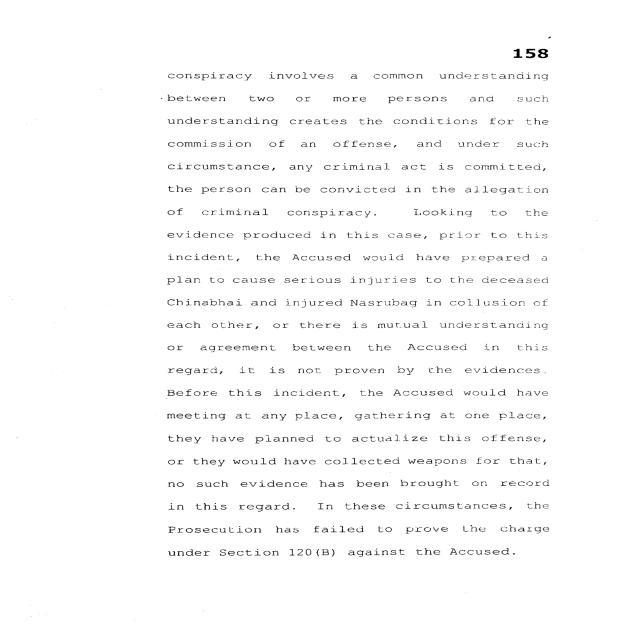page-number: (425, 0, 633, 69)
